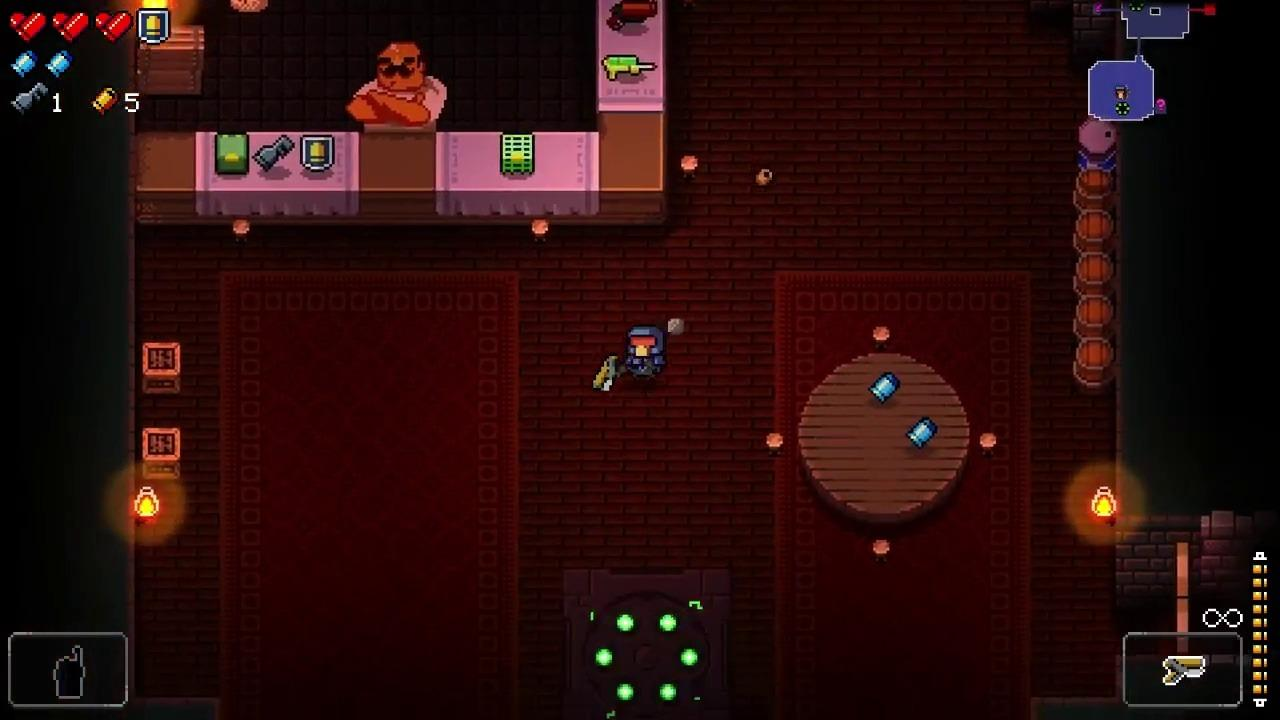player: (624, 326, 666, 381)
shopkeeper: (345, 43, 449, 130)
shopkeeper_table: (195, 131, 360, 192), (435, 131, 601, 191), (598, 0, 663, 112)
teleporter: (560, 568, 732, 720)
unlocked_door: (1177, 542, 1190, 657)
